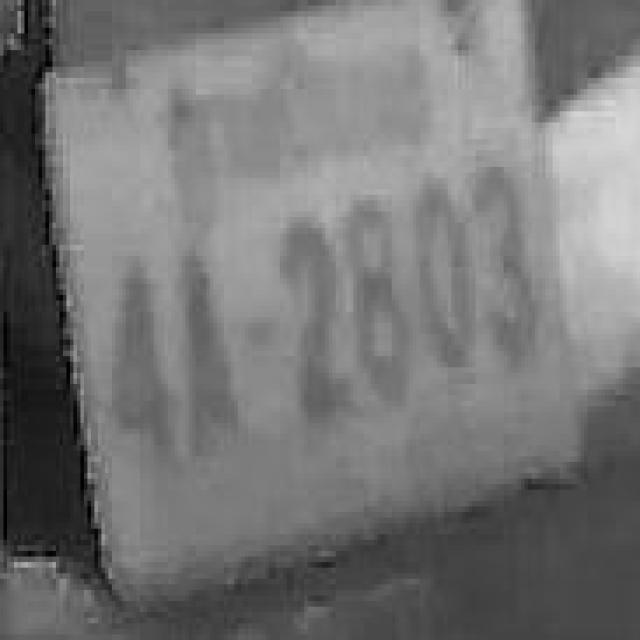Preah_Sihanouk: (165, 39, 431, 222)
